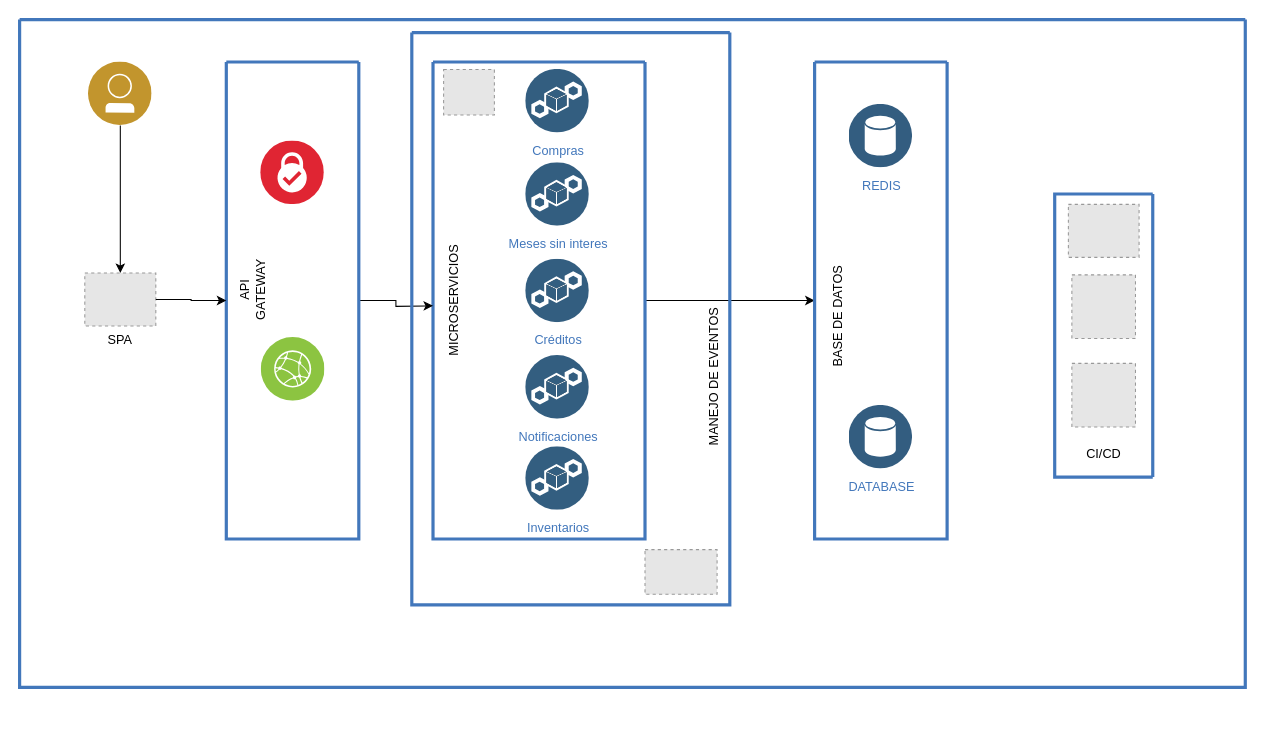
The diagram is 1266 pixels wide and 741 high, and some of its shapes have lost their labels. Grey dashed boxes stand in for pictures. The centre of each missing label's shape, as x and y in pixels:
"Routing" goes at pixel 292 369.
"SECURITY" goes at pixel 292 172.
"USER" goes at pixel 120 93.
